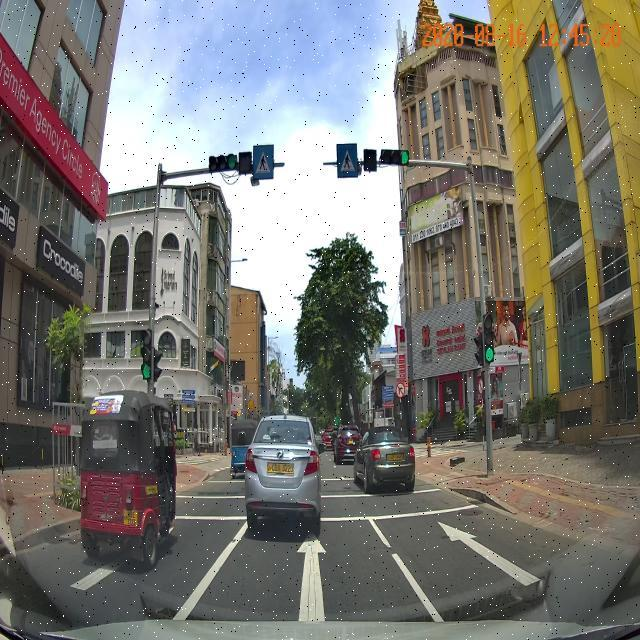forward: (169, 524, 451, 623)
